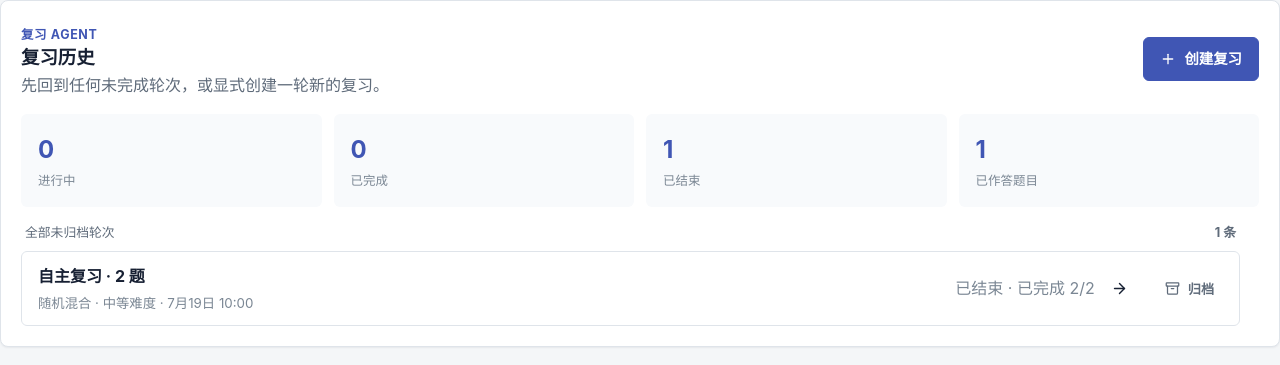
Test: ReviewLanding › uses readable history labels and counts actual answered questions
Expected: the element named "复习历史概览" shows "已结束", [646,114,946,207]
Expected: the button "自主复习 · 2 题 随机混合 · 中等难度 · 7月19日 10:00 已结束 · 已完成 2/2" is shown, [22,252,1144,326]
Click the button with aria-label "已作答题目 1，点击查看条目". click: (1007, 180)
box: [958,114,1259,207]
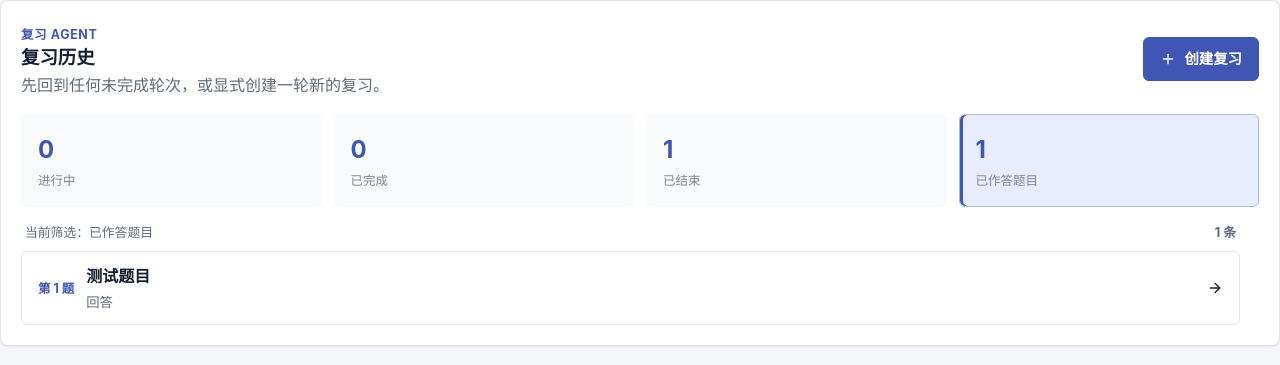
Expected: the text "1 条" is shown, [1215,223,1236,243]
Expected: the button "第 1 题 测试题目 回答" is shown, [21,251,1240,325]
